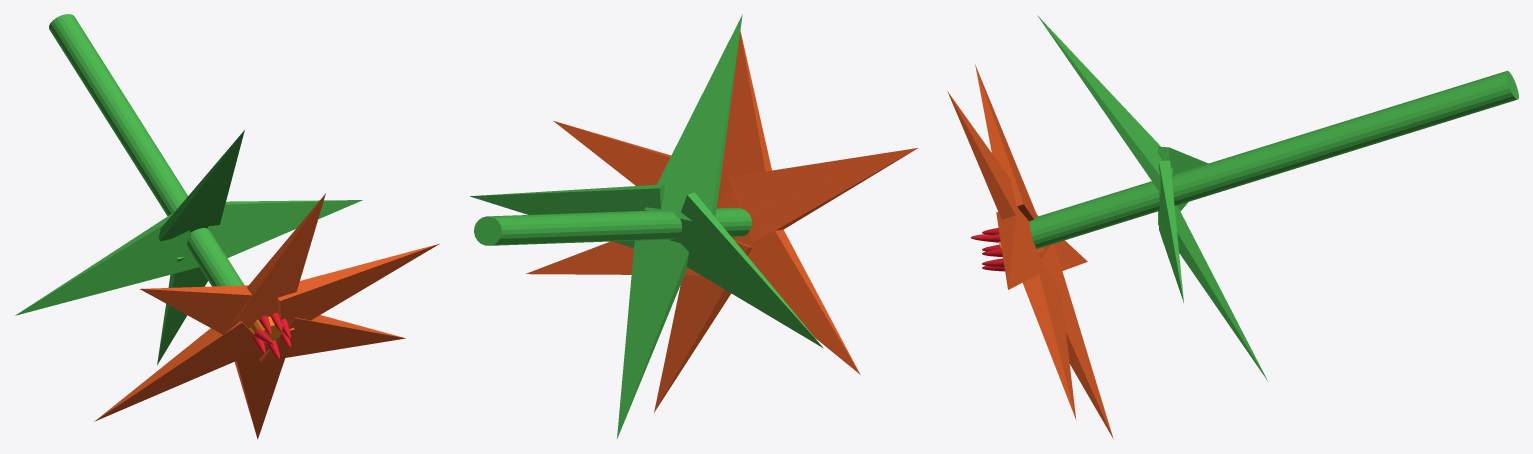
File: tinker.obj
3 renders of one model, left to right at view 1: azimuth 30°, elevation 25°; view 2: azimuth 150°, elevation 25°; view 3: azimuth 270°, elevation 25°, orthographic. The views are drawn at different scales.
Parts seen in each view (by area): view 1: group_0_4634441, group_0_14900002, group_0_15277357; view 2: group_0_4634441, group_0_14900002; view 3: group_0_4634441, group_0_14900002, group_0_15277357.
Boxes of the visible parts, x1,y1,x2,y2 form: group_0_4634441: (15, 14, 362, 365); group_0_14900002: (94, 193, 439, 439); group_0_15277357: (252, 312, 290, 358); group_0_4634441: (470, 14, 823, 438); group_0_14900002: (526, 31, 917, 412); group_0_4634441: (1029, 15, 1518, 380); group_0_14900002: (947, 64, 1113, 439); group_0_15277357: (970, 228, 1004, 271).
Bounding box in the file's own units: 39.81 × 39.29 × 50.92.
